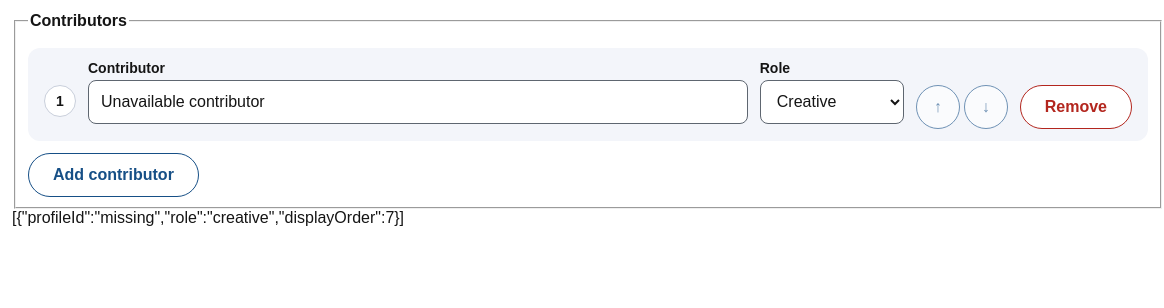
Test case: creates a guest with keyboard navigation and announces bounded results
Replace the text in the dropdown named "Contributor 1" with "New Person" at (418, 102), box 88,80 -> 748,124
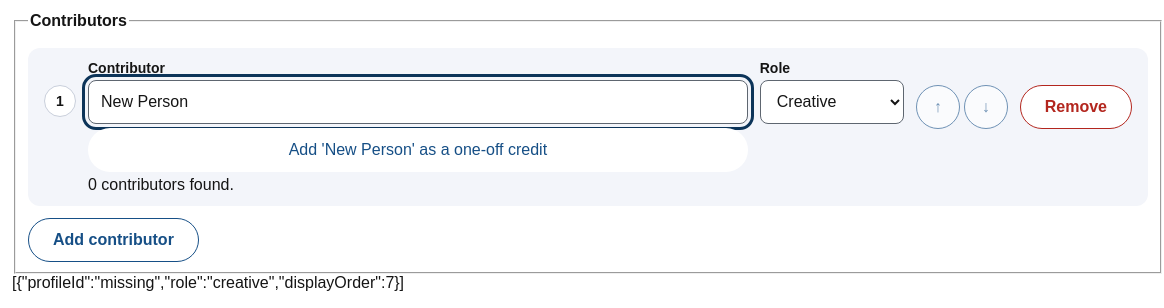
Result: the option "Add 'New Person' as a one-off credit" is shown at 88,128 -> 748,172
Press Arrowdown Enter
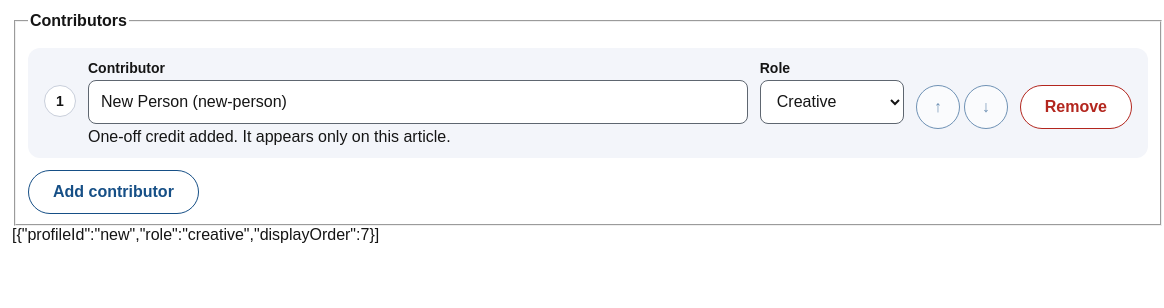
Result: the dropdown showing "New Person (new-person)" is shown at 88,80 -> 748,124
